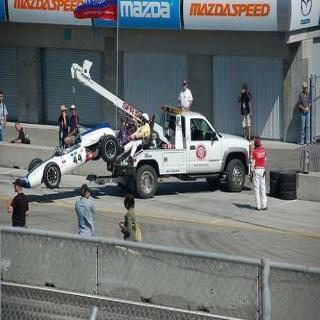Towing_truck: (110, 103, 253, 199)
